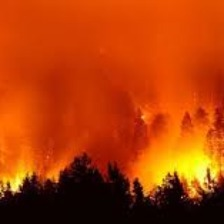incendio: (1, 106, 223, 206), (1, 36, 221, 128)
